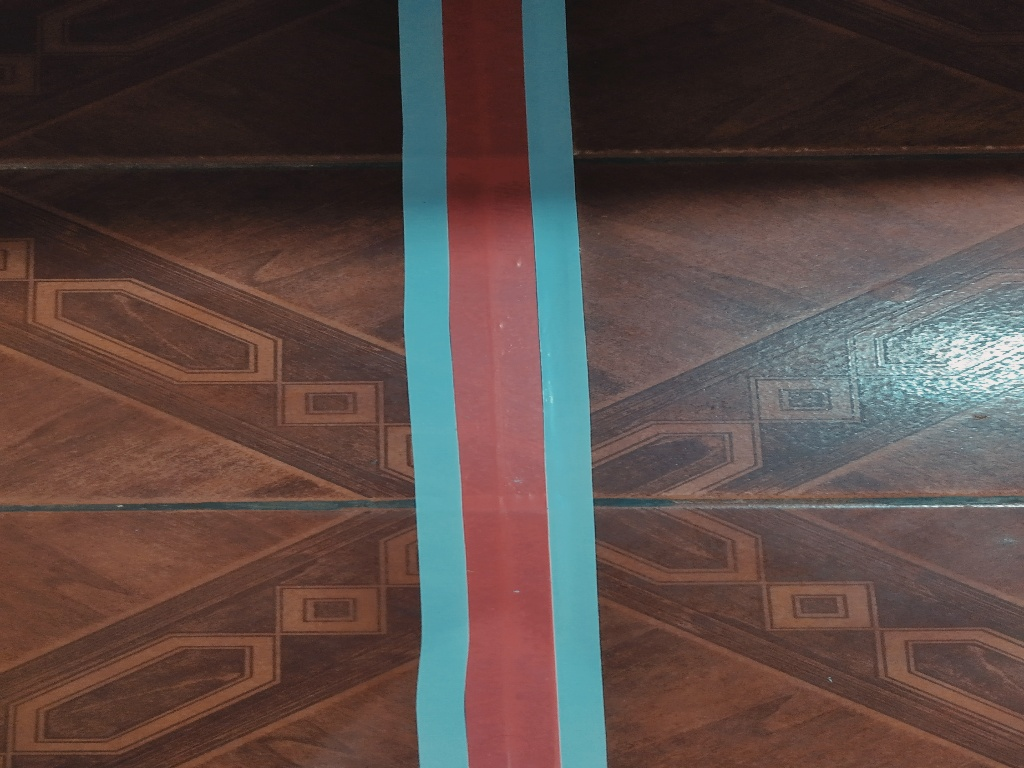reta: (395, 3, 606, 768)
